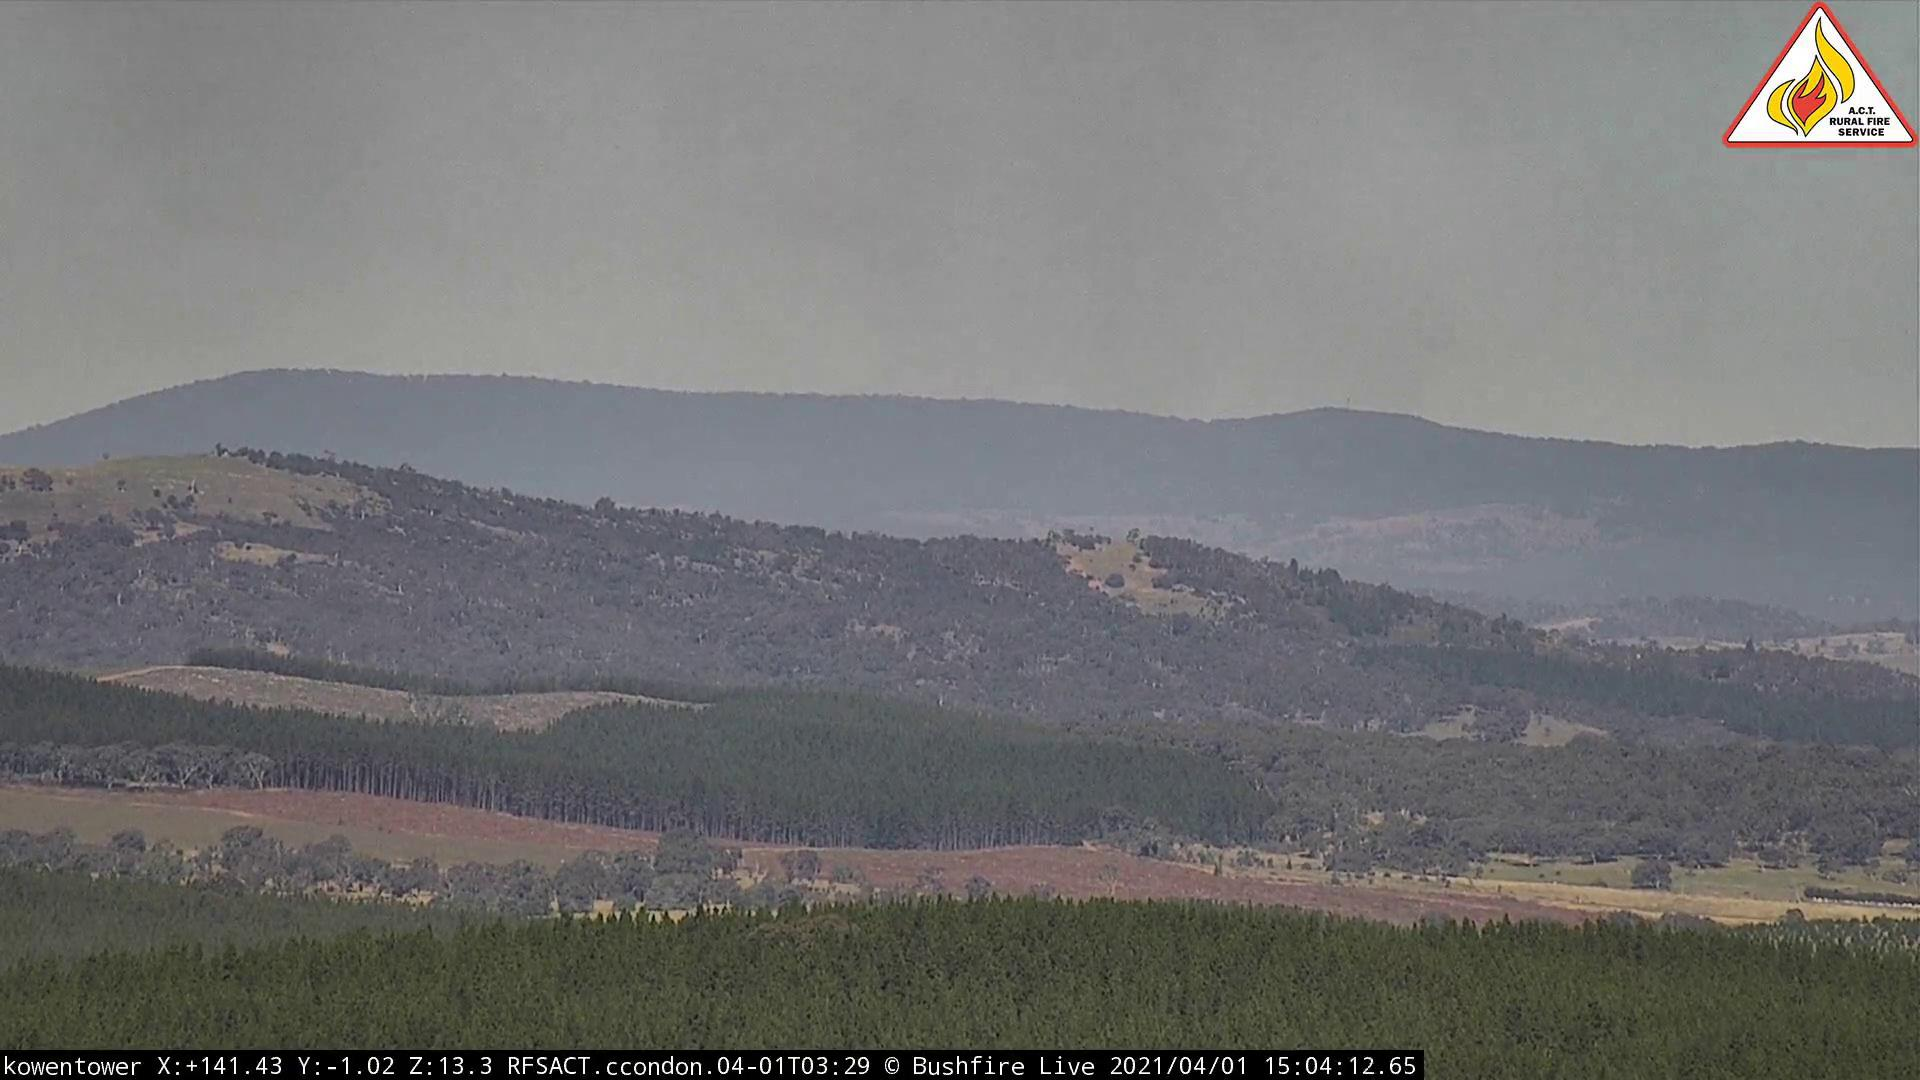Smoke: (3, 3, 1625, 456)
